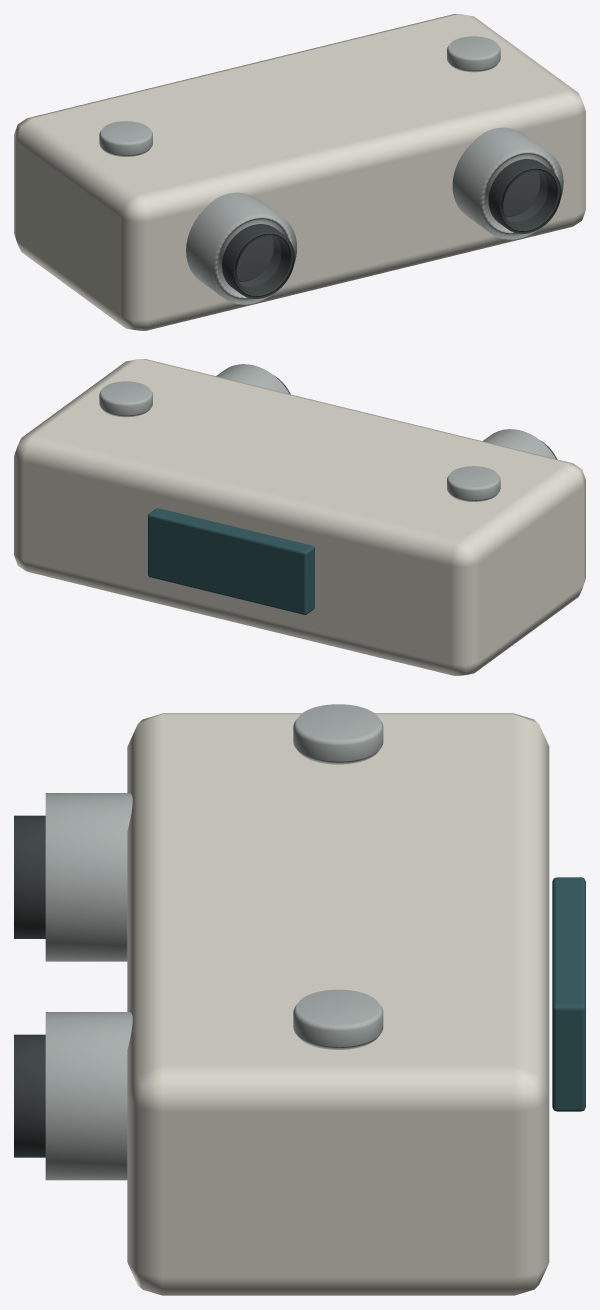
File: optician-and-optical-lens-workshop-optician-and-optica-9edc104d__31680.glb
3 renders of one model, top to bottom at view 1: azimuth 30°, elevation 25°; view 2: azimuth 150°, elevation 25°; view 3: azimuth 270°, elevation 25°, orthographic. The views are drawn at different scales.
Parts seen in each view (by area): view 1: optician-and-optical-lens-workshop-pupil-distance-gauge; view 2: optician-and-optical-lens-workshop-pupil-distance-gauge; view 3: optician-and-optical-lens-workshop-pupil-distance-gauge.
Boxes of the visible parts, x1,y1,x2,y2 form: optician-and-optical-lens-workshop-pupil-distance-gauge: (14,14,585,330); optician-and-optical-lens-workshop-pupil-distance-gauge: (14,359,585,675); optician-and-optical-lens-workshop-pupil-distance-gauge: (14,704,585,1295).
Bounding box in the file's own units: 0.16 × 0.05 × 0.1017.
